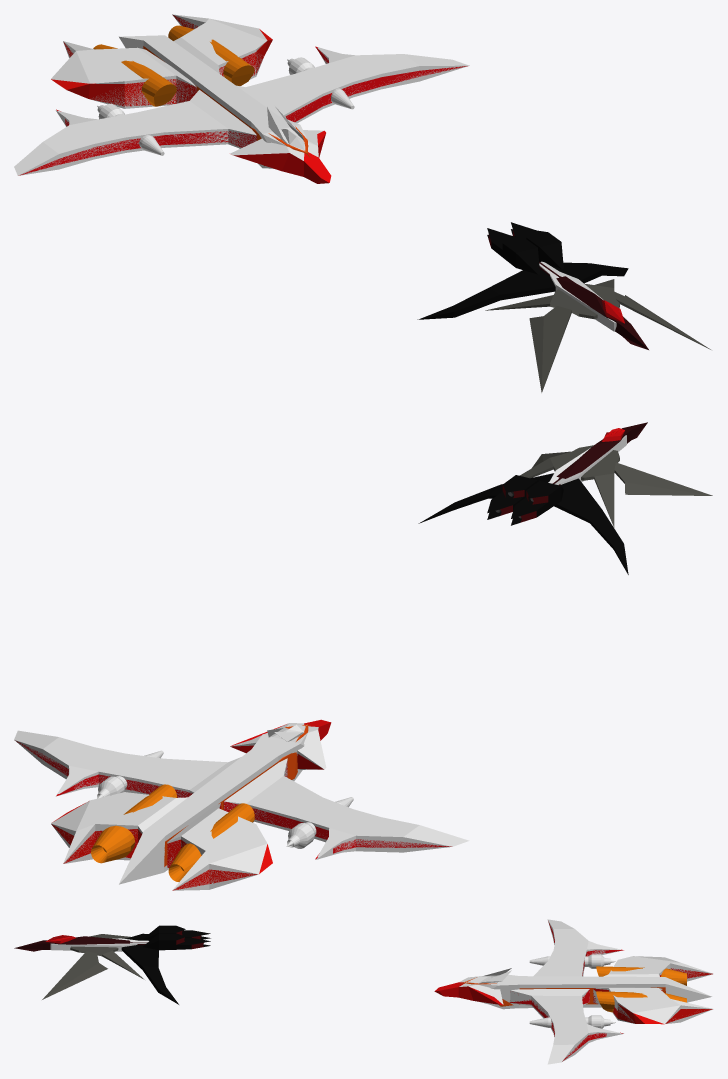
The model's file is fighter planes.fbx.
3 renders of one model, top to bottom at view 1: azimuth 30°, elevation 25°; view 2: azimuth 150°, elevation 25°; view 3: azimuth 270°, elevation 25°, orthographic. The views are drawn at different scales.
Parts seen in each view (by area): view 1: wing.001, back wing.001, body.003, wing.003, wing, wing.002, back wing, back engine, head, head.001, engine(enemy).001, body.004 (+3 smaller); view 2: wing.001, back wing.001, body.003, wing.003, back engine, wing.002, wing, back wing, engine.002, head.001, body.004, engine(enemy).001 (+1 smaller); view 3: wing.001, back wing.001, body.003, wing.003, wing.002, back engine, back wing, engine.002, body.004, engine(enemy), head, wing (+5 smaller).
Part boxes in pixels (x1=…): wing.001: x1=14, y1=46, x2=468, y2=175; back wing.001: x1=51, y1=14, x2=267, y2=108; body.003: x1=119, y1=35, x2=306, y2=168; wing.003: x1=485, y1=279, x2=710, y2=392; wing: x1=19, y1=46, x2=467, y2=175; wing.002: x1=417, y1=262, x2=628, y2=319; back wing: x1=51, y1=15, x2=272, y2=106; back engine: x1=93, y1=25, x2=254, y2=106; head: x1=233, y1=130, x2=331, y2=183; head.001: x1=230, y1=106, x2=323, y2=160; engine(enemy).001: x1=487, y1=228, x2=540, y2=274; body.004: x1=539, y1=262, x2=648, y2=349; wing.001: x1=14, y1=730, x2=469, y2=859; back wing.001: x1=51, y1=792, x2=267, y2=890; body.003: x1=119, y1=725, x2=307, y2=884; wing.003: x1=519, y1=445, x2=712, y2=527; back engine: x1=91, y1=784, x2=254, y2=881; wing.002: x1=418, y1=473, x2=628, y2=574; wing: x1=15, y1=740, x2=451, y2=859; back wing: x1=51, y1=801, x2=272, y2=890; engine.002: x1=97, y1=750, x2=353, y2=848; head.001: x1=230, y1=723, x2=326, y2=769; body.004: x1=552, y1=422, x2=647, y2=485; engine(enemy).001: x1=511, y1=480, x2=563, y2=525; wing.001: x1=510, y1=919, x2=623, y2=1064; back wing.001: x1=593, y1=956, x2=713, y2=1023; body.003: x1=464, y1=974, x2=711, y2=1009; wing.003: x1=42, y1=934, x2=144, y2=999; wing.002: x1=121, y1=933, x2=178, y2=1004; back engine: x1=596, y1=966, x2=686, y2=1012; back wing: x1=593, y1=968, x2=712, y2=1024; engine.002: x1=529, y1=954, x2=615, y2=1028; body.004: x1=14, y1=936, x2=147, y2=951; engine(enemy): x1=143, y1=933, x2=210, y2=950; head: x1=434, y1=982, x2=502, y2=1004; wing: x1=509, y1=921, x2=623, y2=1061.
Size of the model in its own units: 350 by 80.23 by 714.
